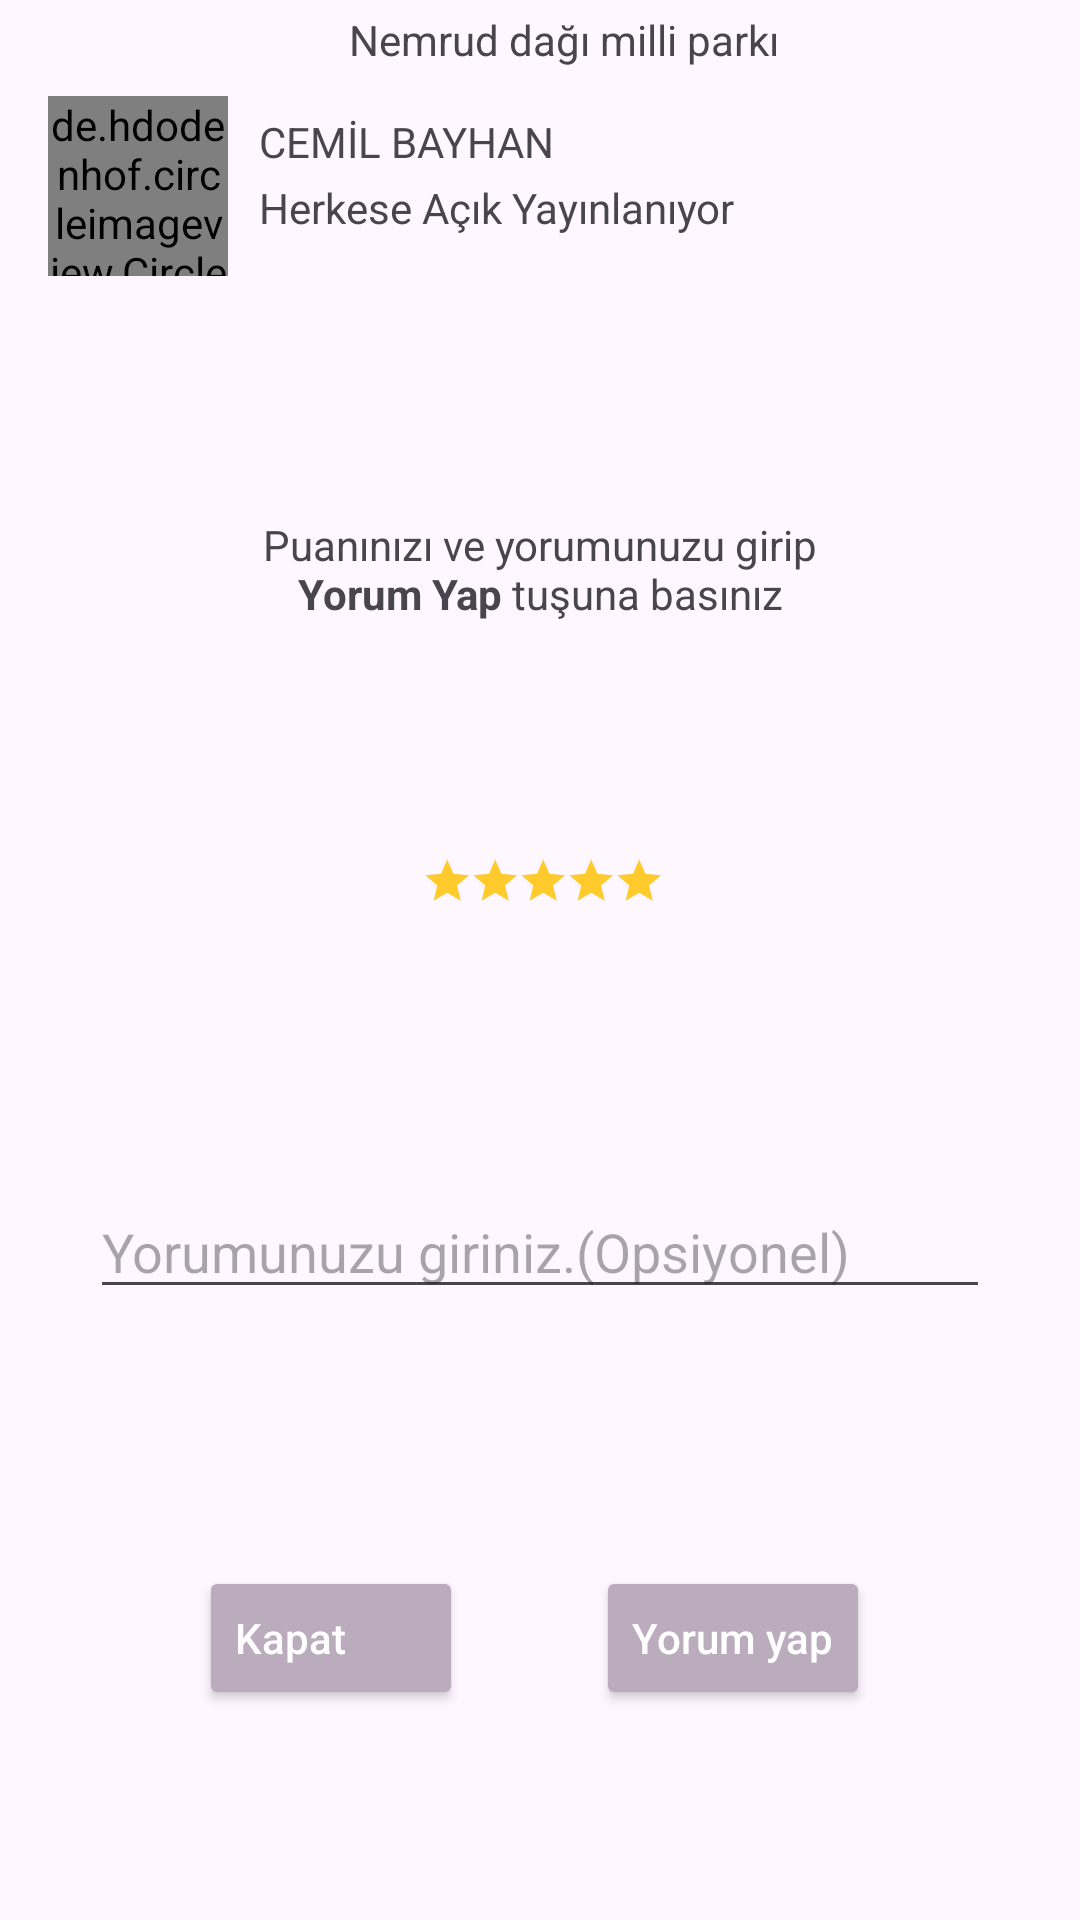

Point at icon controls on the screen. Image size 1080*1920, points as (x,y).
starfull: (447,880), (495,880), (543,880), (591,880), (639,880)
